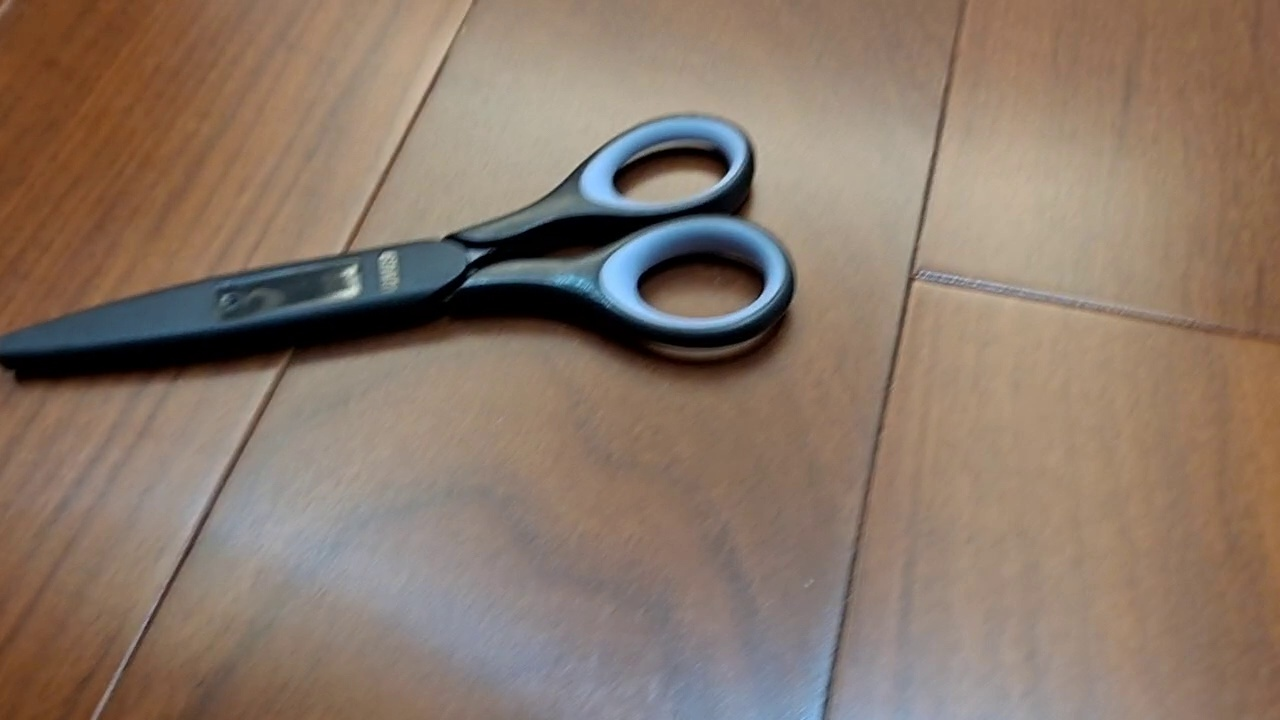scissors: (1, 111, 797, 383)
